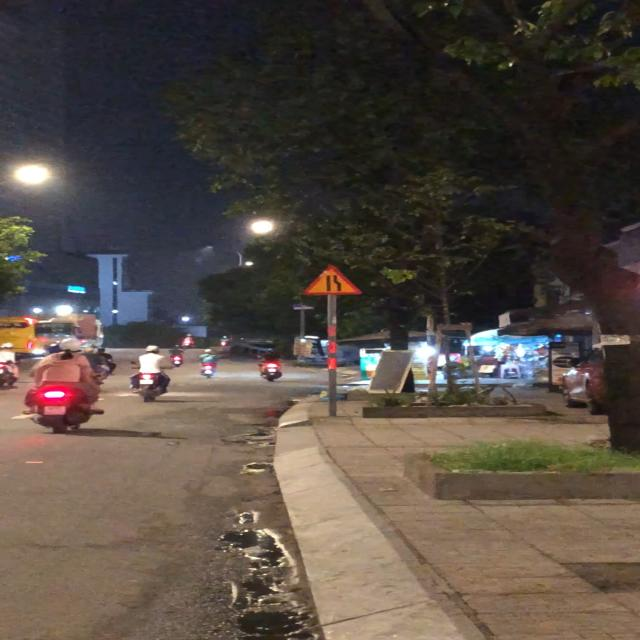Bien bao duong bi thu hep: (297, 261, 367, 297)
